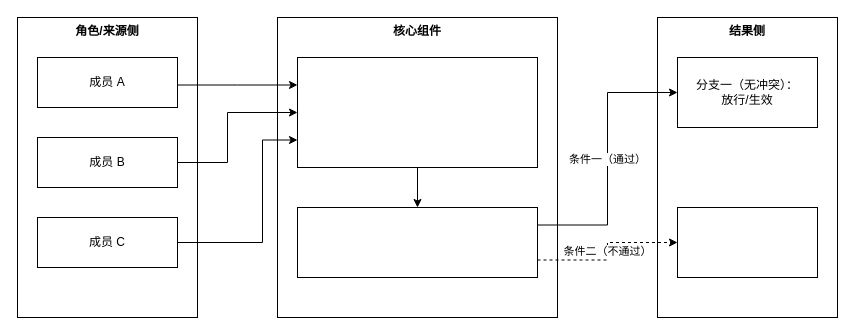
This 855x335 diagram has some shape labels left out. Each missing label, with the centre of its shape:
"分支二（有冲突）： 拦截/待处理" belongs at point (747, 242).
"判定器 （判定依据一句话）" belongs at point (417, 242).
"登记表 成员A：其输入/状态 成员B：其输入/状态 成员C：其输入/状态" belongs at point (417, 112).
